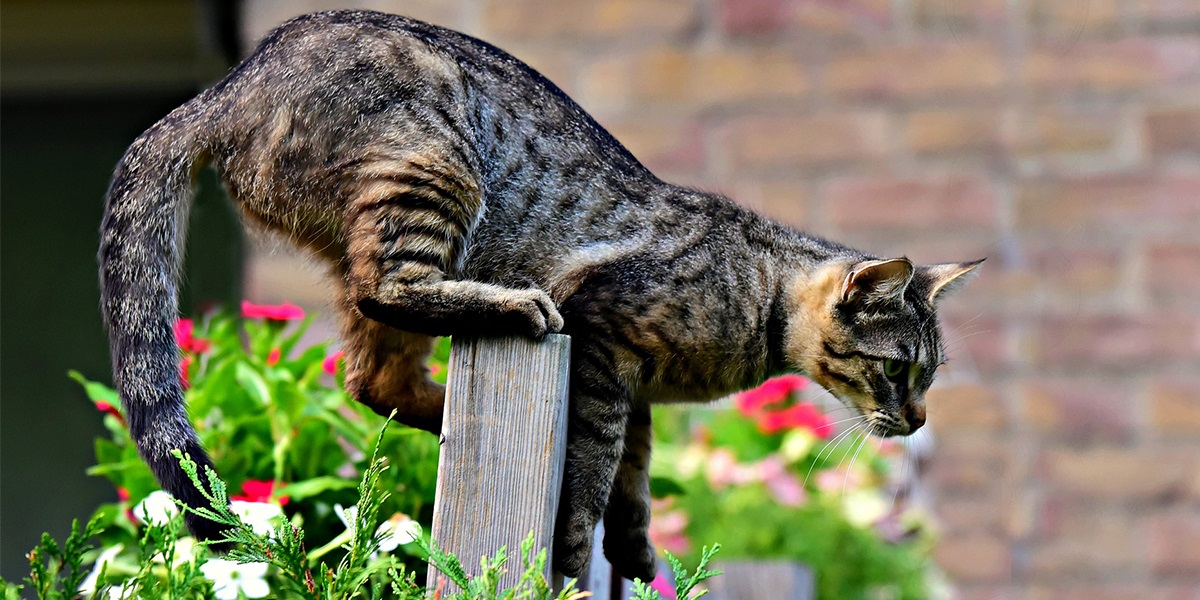cat: (101, 13, 997, 579)
